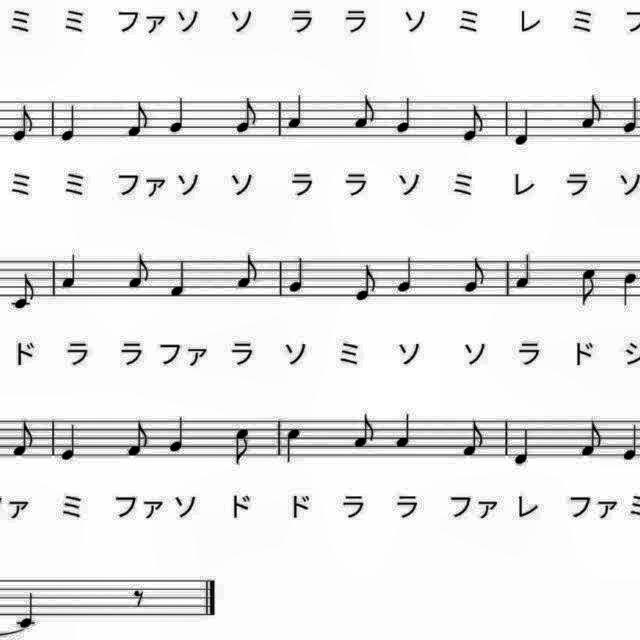Eighth-note: (7, 100, 38, 148), (6, 416, 38, 462), (122, 416, 154, 462), (576, 416, 608, 462), (351, 259, 382, 305), (8, 270, 40, 314), (124, 97, 154, 143), (459, 102, 489, 148), (458, 416, 488, 462), (124, 250, 156, 292), (232, 92, 262, 136), (461, 254, 491, 298), (349, 411, 379, 454), (233, 251, 263, 293), (349, 90, 379, 132), (577, 90, 607, 132), (575, 264, 601, 312), (231, 424, 257, 472)
Eighth-rest: (129, 583, 151, 611)
Quarter-note: (10, 590, 42, 634), (394, 252, 421, 298), (510, 106, 538, 150), (57, 420, 83, 466), (285, 252, 311, 298), (166, 92, 192, 136), (58, 250, 84, 294), (166, 414, 192, 458), (511, 426, 537, 470), (58, 101, 82, 147), (392, 92, 416, 138), (168, 256, 192, 300), (392, 408, 416, 452), (514, 250, 538, 294), (282, 424, 306, 468), (284, 90, 308, 132), (618, 266, 640, 310), (619, 419, 640, 464), (619, 92, 640, 135), (639, 419, 640, 464), (639, 92, 640, 135)
